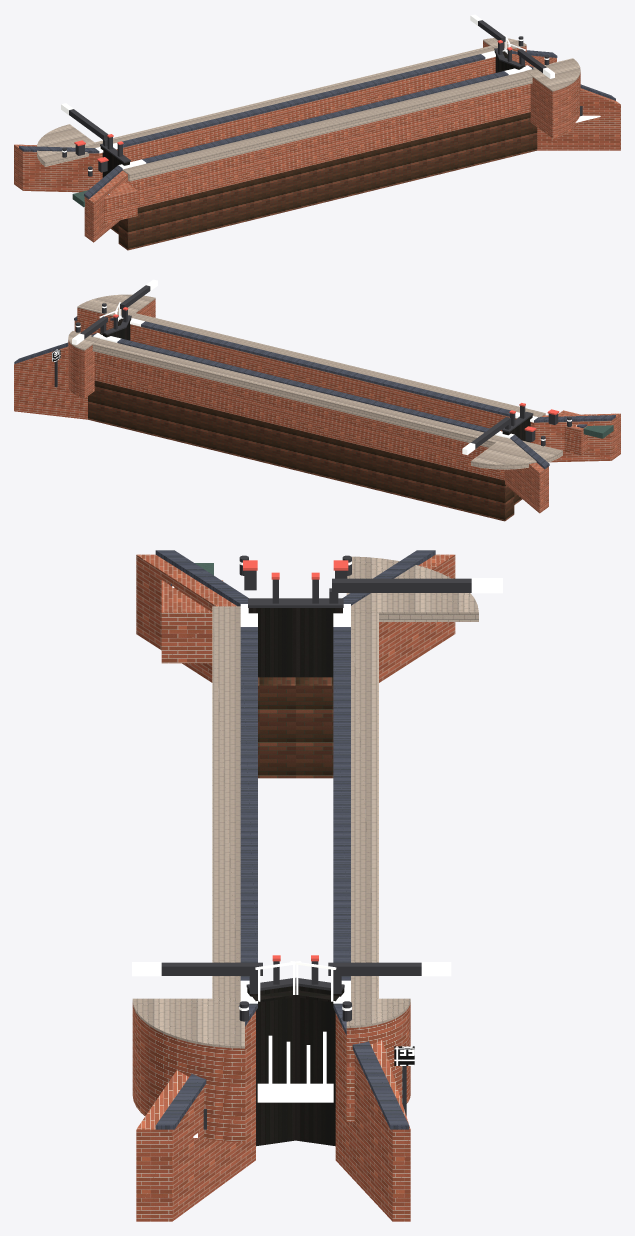
The model's file is lock-39.glb.
The picture shows the model from 3 angles, top to bottom: view 1: azimuth 30°, elevation 25°; view 2: azimuth 150°, elevation 25°; view 3: azimuth 270°, elevation 25°; orthographic projection. The views are drawn at different scales.
Visible parts, largest first — view 1: Chamber, ChamberWet, Edge, Coping.001, TopGateCap, Coping, TopGate; view 2: Chamber, ChamberWet, Edge, Coping.001, TopGateCap, Coping, TopGate; view 3: Chamber, Edge, Coping.001, TopGate, TopGateCap, ChamberWet, Coping, Leak.
Part boxes in pixels (x1,y1,x2,y2): Chamber: (14, 41, 620, 242); ChamberWet: (110, 112, 537, 250); Edge: (37, 38, 580, 181); Coping.001: (19, 49, 615, 198); TopGateCap: (62, 20, 582, 176); Coping: (61, 14, 554, 171); TopGate: (100, 51, 525, 177); Chamber: (14, 299, 620, 513); ChamberWet: (88, 380, 522, 521); Edge: (68, 294, 562, 469); Coping.001: (14, 316, 615, 469); TopGateCap: (54, 285, 571, 448); Coping: (72, 279, 571, 455); TopGate: (99, 318, 532, 442); Chamber: (132, 554, 455, 1221); Edge: (132, 556, 478, 1048); Coping.001: (155, 550, 435, 1129); TopGate: (247, 608, 344, 1146); TopGateCap: (161, 555, 471, 1129); ChamberWet: (258, 677, 333, 778); Coping: (132, 561, 502, 1010); Leak: (172, 586, 333, 1137).
Bounding box in the file's own units: 33.68 × 5.85 × 10.24.
Materials: 11 (8 with a texture image).
